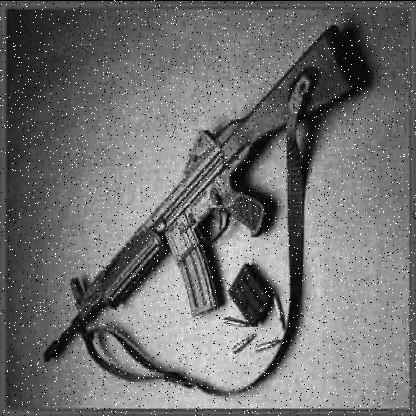rifle: (30, 20, 382, 378)
